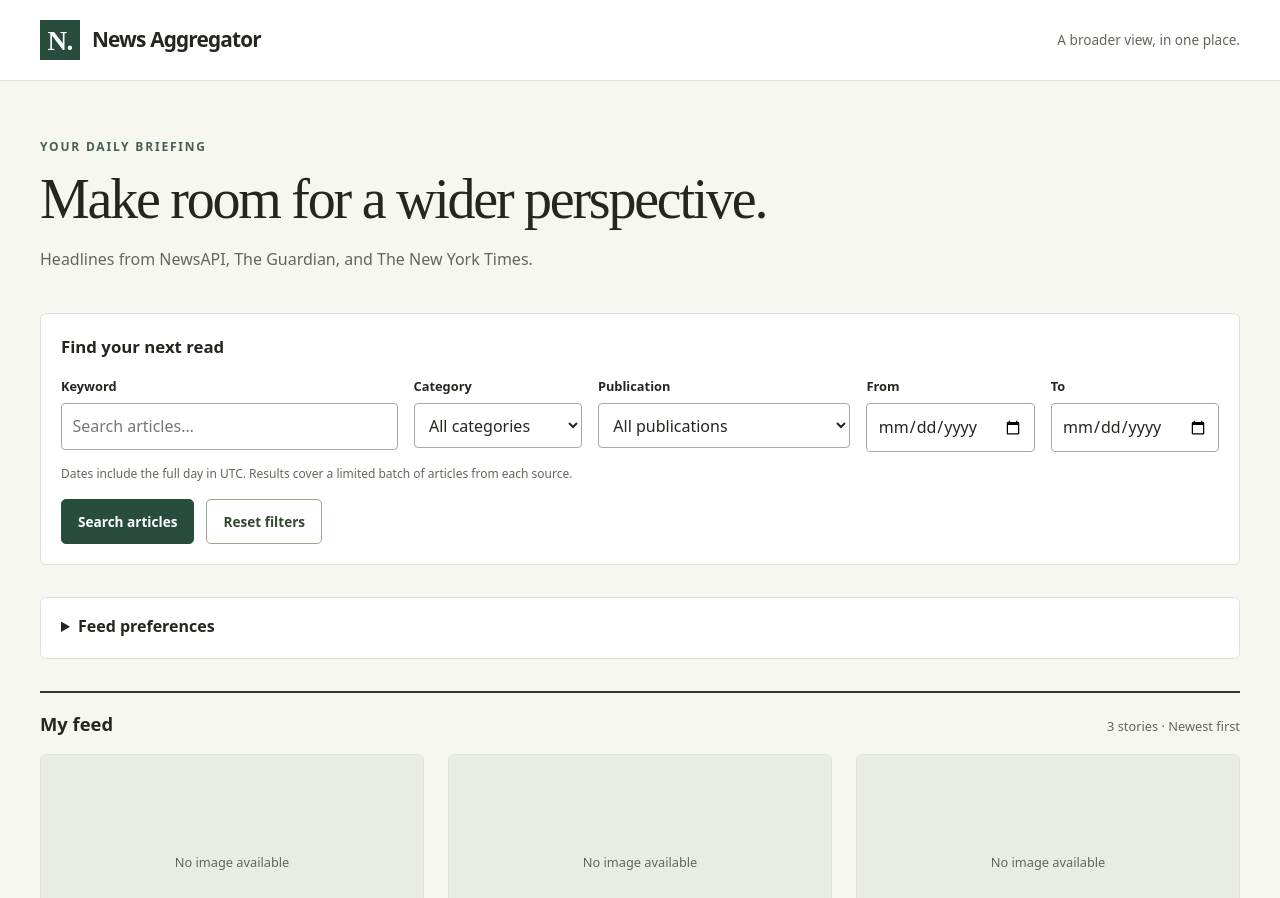
Scenario: recovers from corrupt preferences and from unavailable storage reads
Click the heading "Feed preferences": {"x": 146, "y": 626} [78,615,215,637]
(page scrolled)
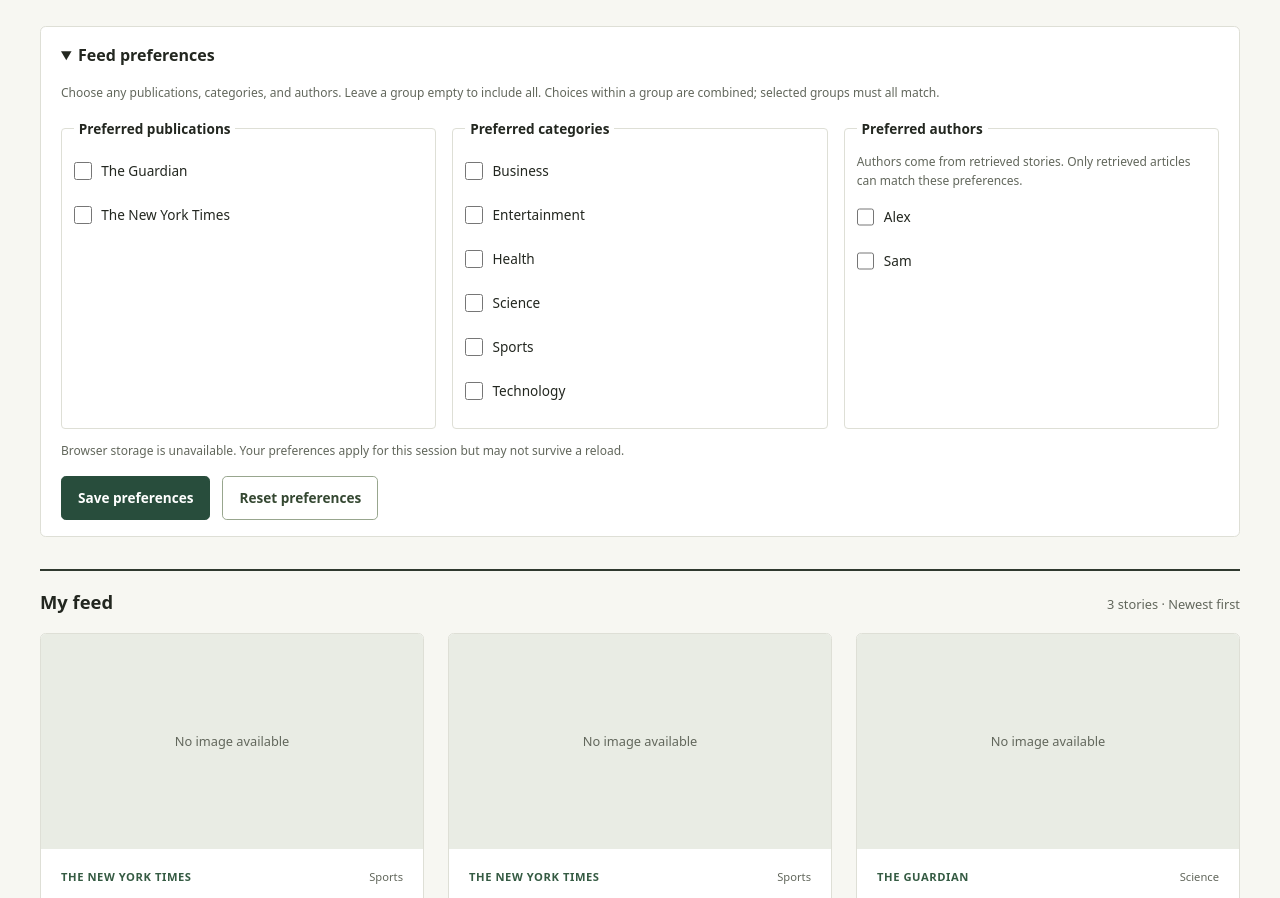
Now the text "Browser storage is unavailable" is shown, box [61,442,624,459]
